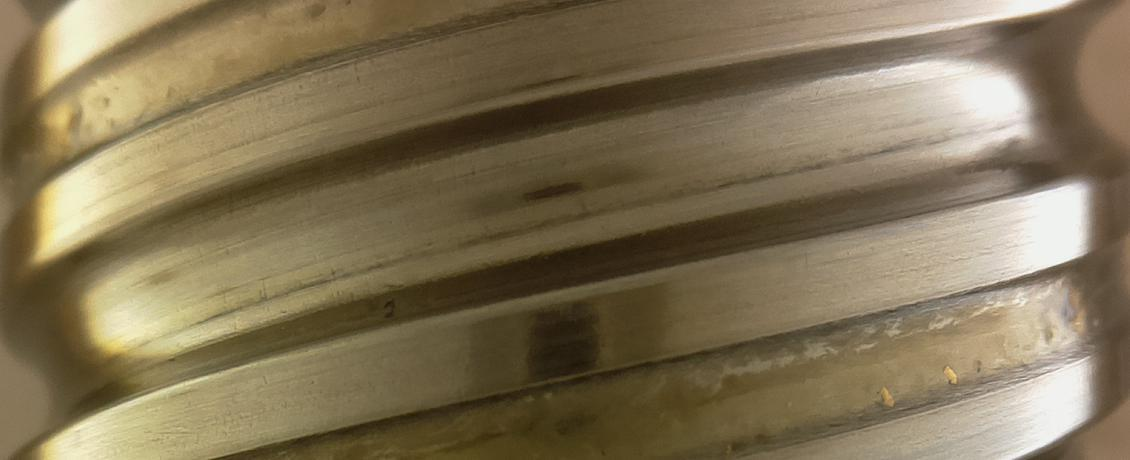pitting: (383, 297, 396, 318)
